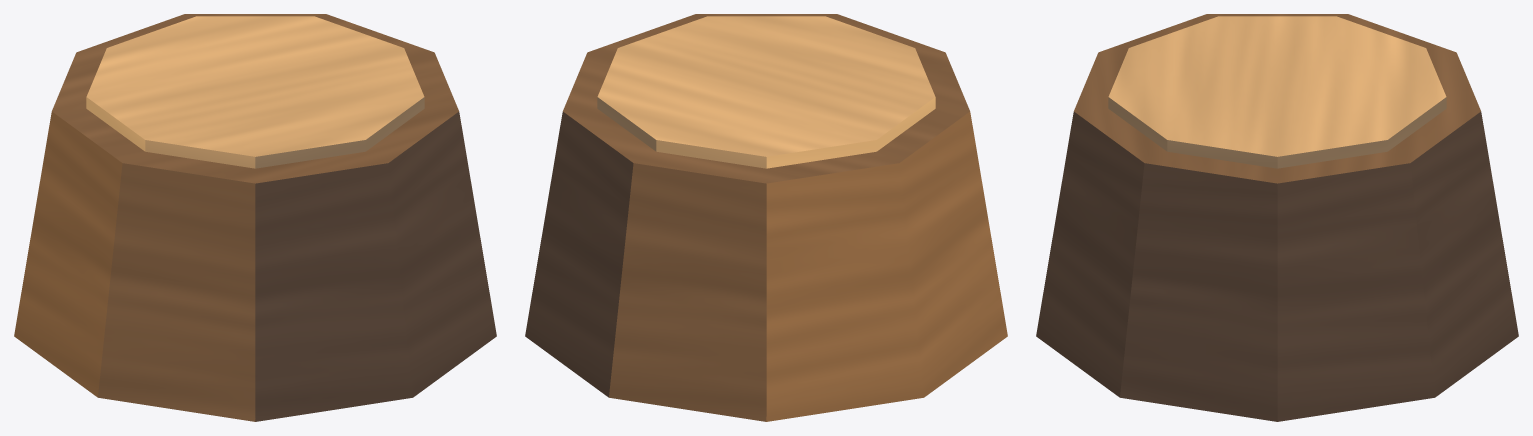
File: wood_stump.glb
The picture shows the model from 3 angles, left to right: view 1: azimuth 30°, elevation 25°; view 2: azimuth 150°, elevation 25°; view 3: azimuth 270°, elevation 25°; orthographic projection.
Visible parts, largest first — view 1: Baumstumpf; view 2: Baumstumpf; view 3: Baumstumpf.
Boxes of the visible parts, x1=… form: Baumstumpf: x1=14, y1=14, x2=496, y2=421; Baumstumpf: x1=525, y1=14, x2=1007, y2=421; Baumstumpf: x1=1036, y1=14, x2=1518, y2=421.
Bounding box in the file's own units: 0.6207 × 0.337 × 0.6303.
Materials: 1 (1 with a texture image).
